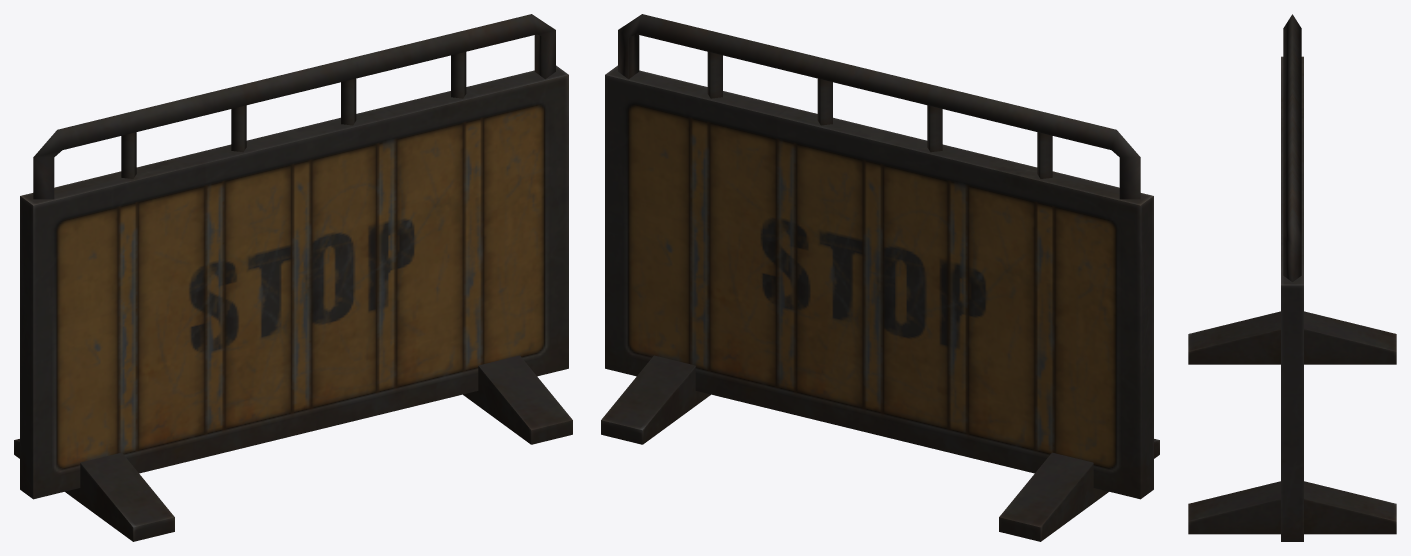
File: Stage-gongchang-tielan.FBX
3 views of the same model, side by side, from view 1: azimuth 30°, elevation 25°; view 2: azimuth 150°, elevation 25°; view 3: azimuth 270°, elevation 25° (orthographic). The views are drawn at different scales.
Visible parts, largest first — view 1: Cylinder05; view 2: Cylinder05; view 3: Cylinder05.
Part boxes in pixels (x1,y1,x2,y2): Cylinder05: (14,14,572,541); Cylinder05: (601,14,1159,541); Cylinder05: (1188,14,1396,541).
Bounding box in the file's own units: 4.3 × 1.66 × 2.86.
